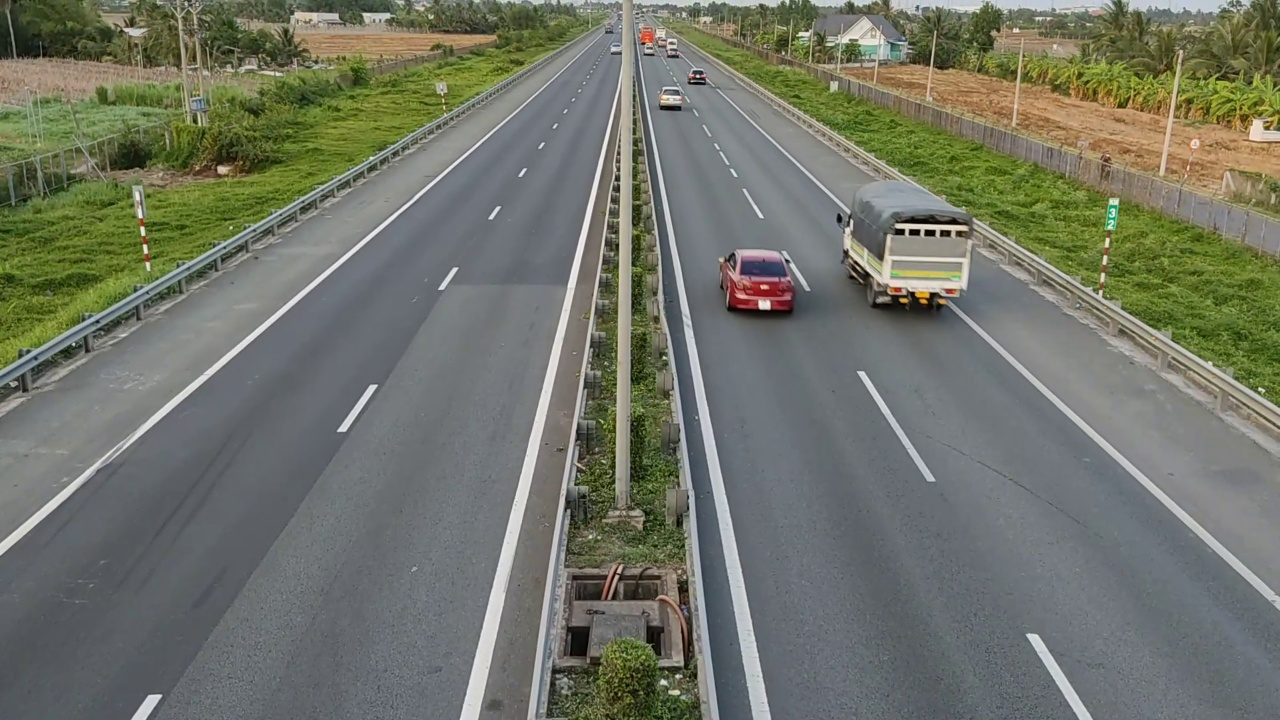car: (719, 249, 797, 312), (657, 85, 685, 110), (687, 69, 709, 83)
truck: (839, 180, 975, 308)
